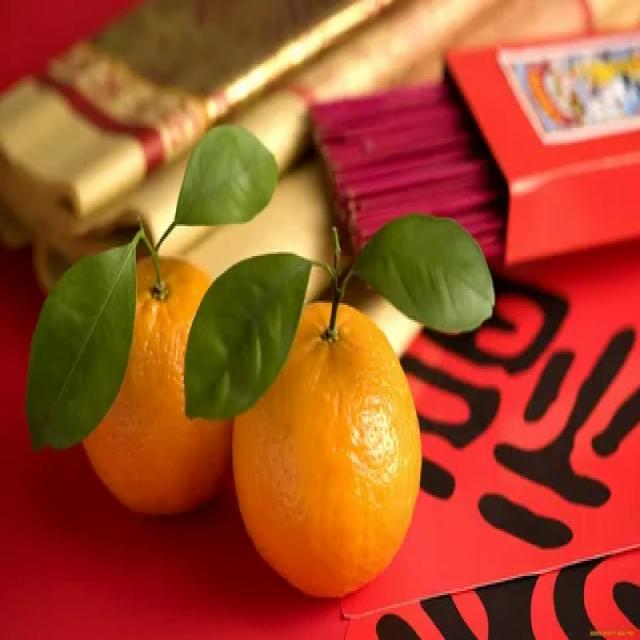orange: (221, 282, 424, 602)
